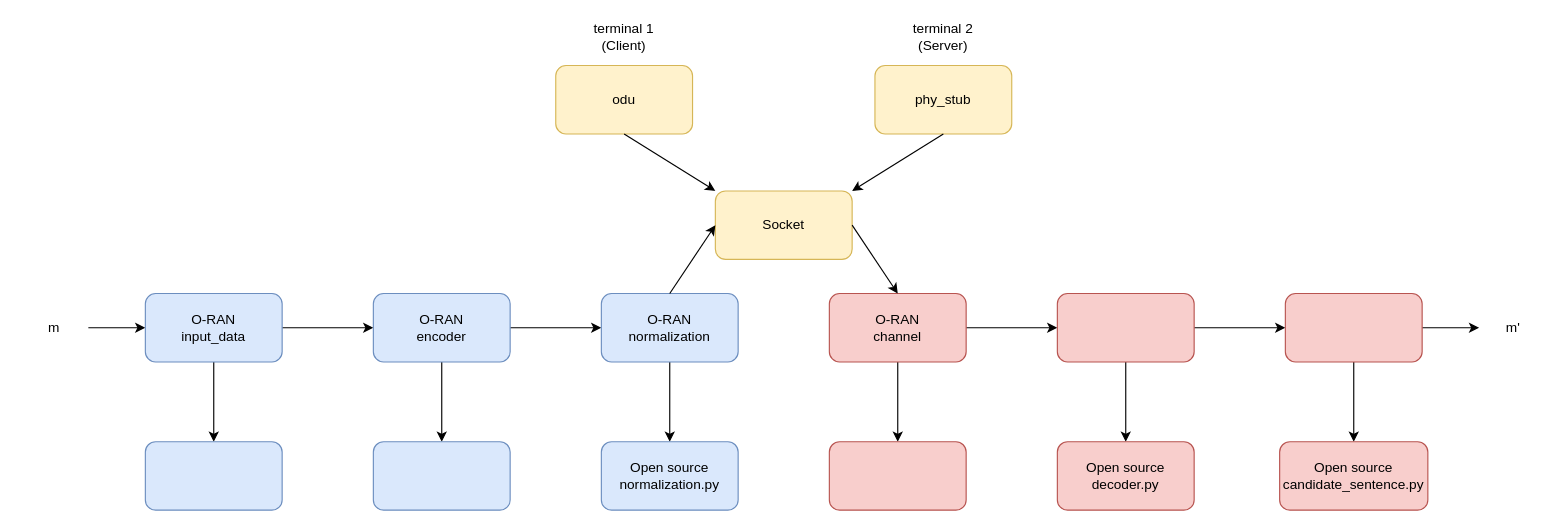
Some shapes in this 1566 by 530 pixel diagram are drawn without their labels. The centre of each missing label's shape, as x and y in pixels:
O-RAN candidate_sentence: point 1353,327
O-RAN decoder: point 1125,327
Open source channel.py: point 897,475
Open source encoder.py: point 441,475
Open source input_data.py: point 213,475
